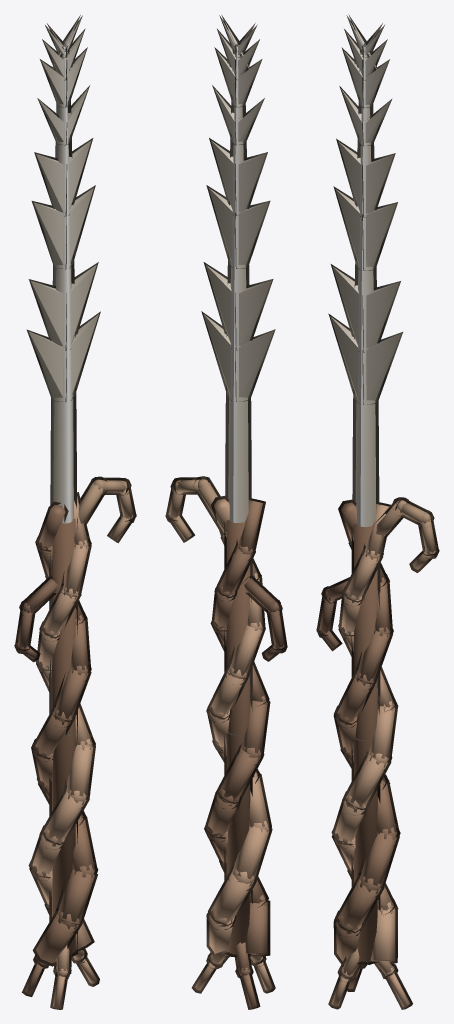
The model's file is w_thorn_root.glb.
3 views of the same model, side by side, from view 1: azimuth 30°, elevation 25°; view 2: azimuth 150°, elevation 25°; view 3: azimuth 330°, elevation 25° (orthographic).
Parts seen in each view (by area): view 1: Weapon_1, Weapon_0, Outline; view 2: Weapon_1, Weapon_0, Outline; view 3: Weapon_1, Weapon_0, Outline.
Part boxes in pixels (x1,y1,x2,y2): Weapon_1: (17, 479, 133, 1007); Weapon_0: (28, 17, 98, 523); Outline: (14, 15, 136, 1009); Weapon_1: (168, 479, 284, 1007); Weapon_0: (203, 18, 273, 522); Outline: (165, 15, 287, 1009); Weapon_1: (319, 500, 436, 1006); Weapon_0: (330, 18, 401, 526); Outline: (316, 14, 439, 1009).
Size of the model in its own units: 0.2043 by 1.59 by 0.1085.
